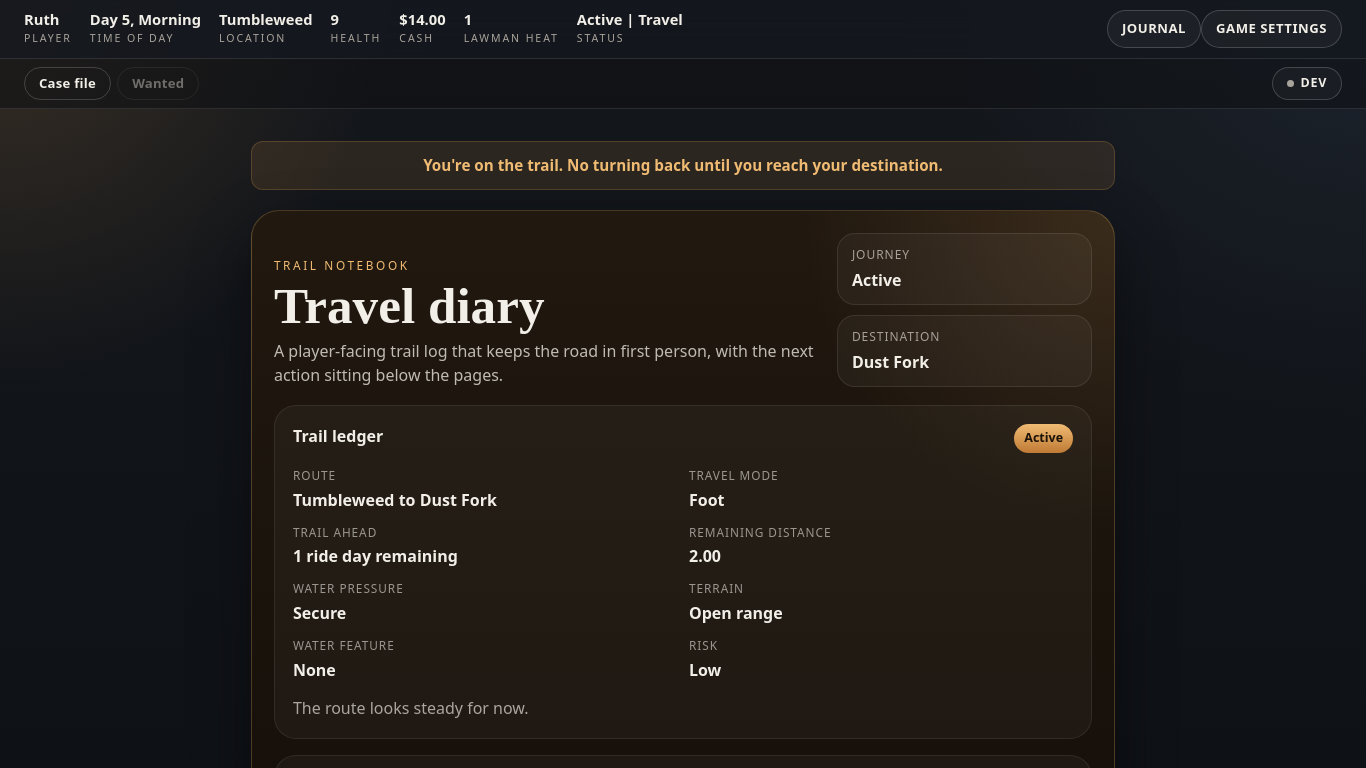
AppShell › syncs the dev surface to 'trail' when on /trail with an on-trail session (real AppShell wiring)
Expected: the header named "game status" is shown, [0,0,1365,59]
Click the button "Dev" at point(1307, 84), box [1272,67,1342,100]
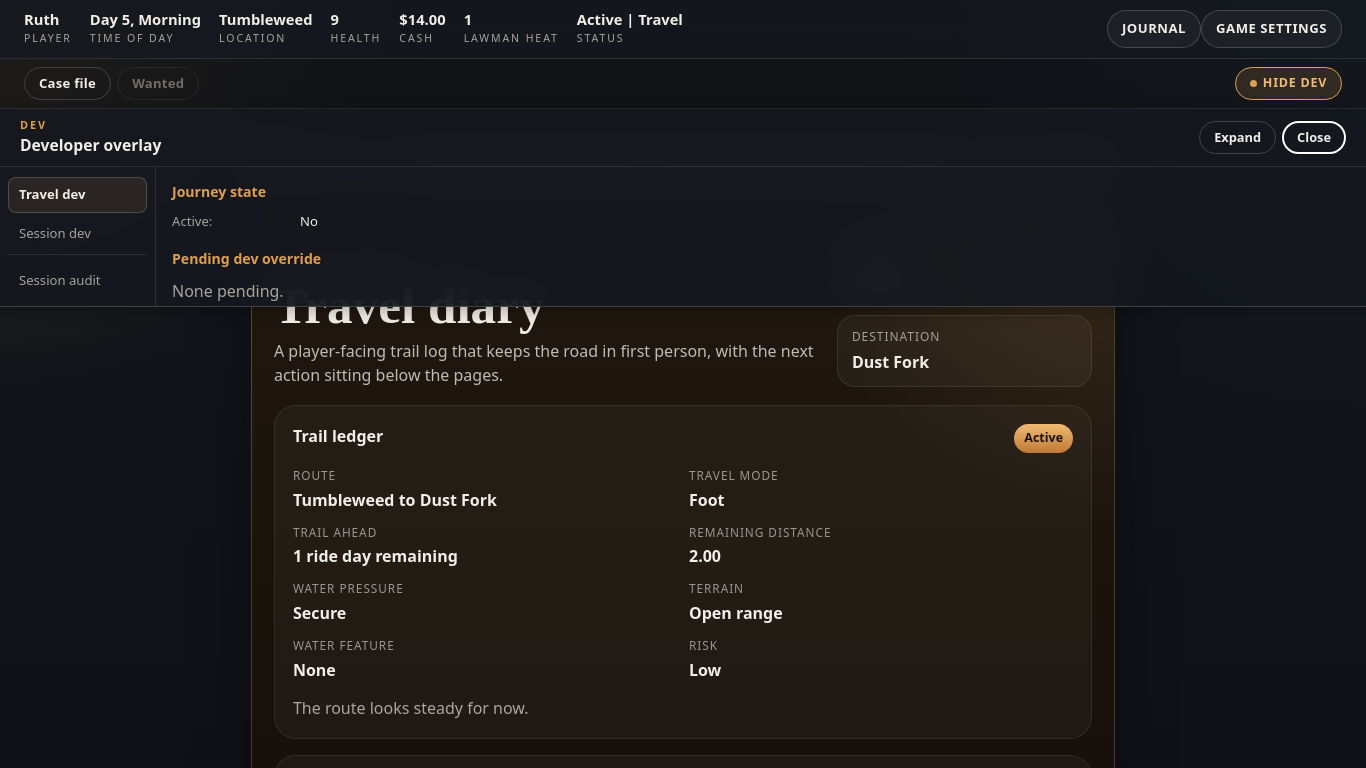
Expected: the button "Travel dev" is shown, [8,177,147,212]
